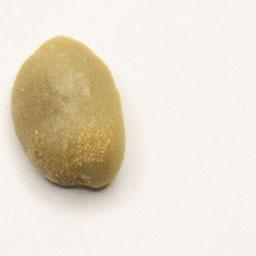longberry: (9, 31, 130, 193)
